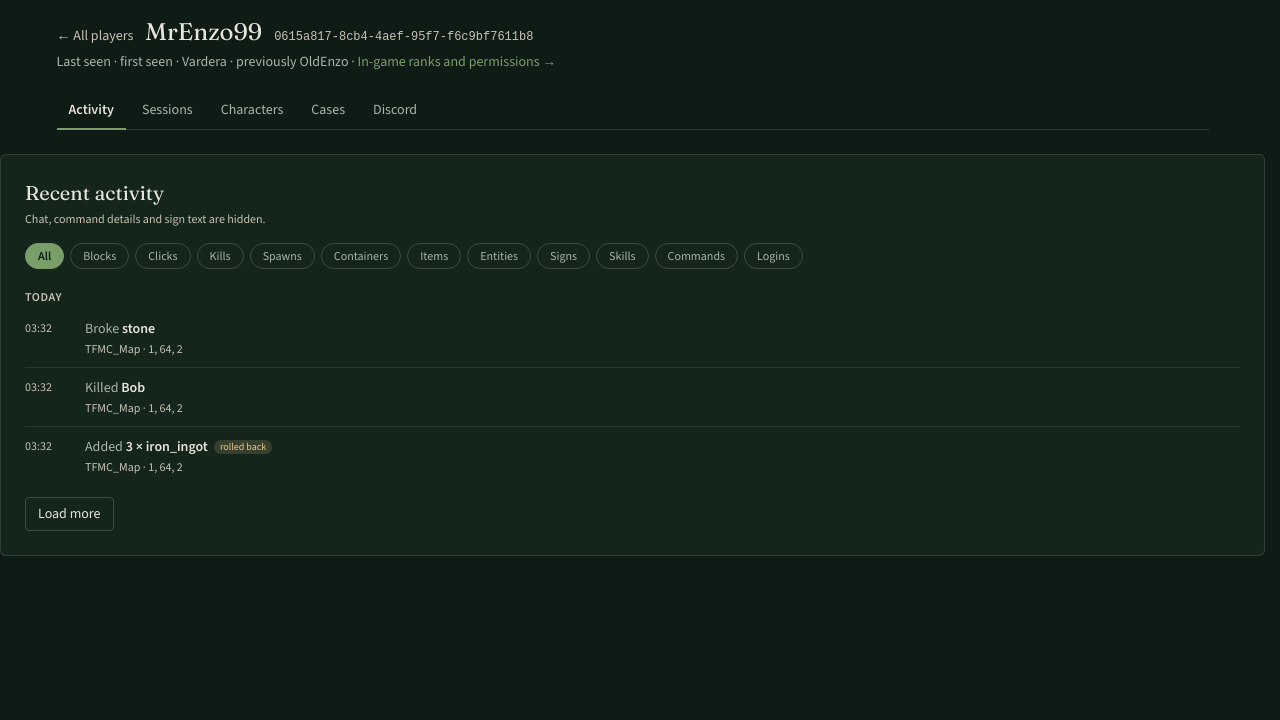
Test: filters by kind from the first page
Expected: the text "stone" is shown, [122,319,155,338]
Click the button "Kills": (220, 256) [197,243,244,269]
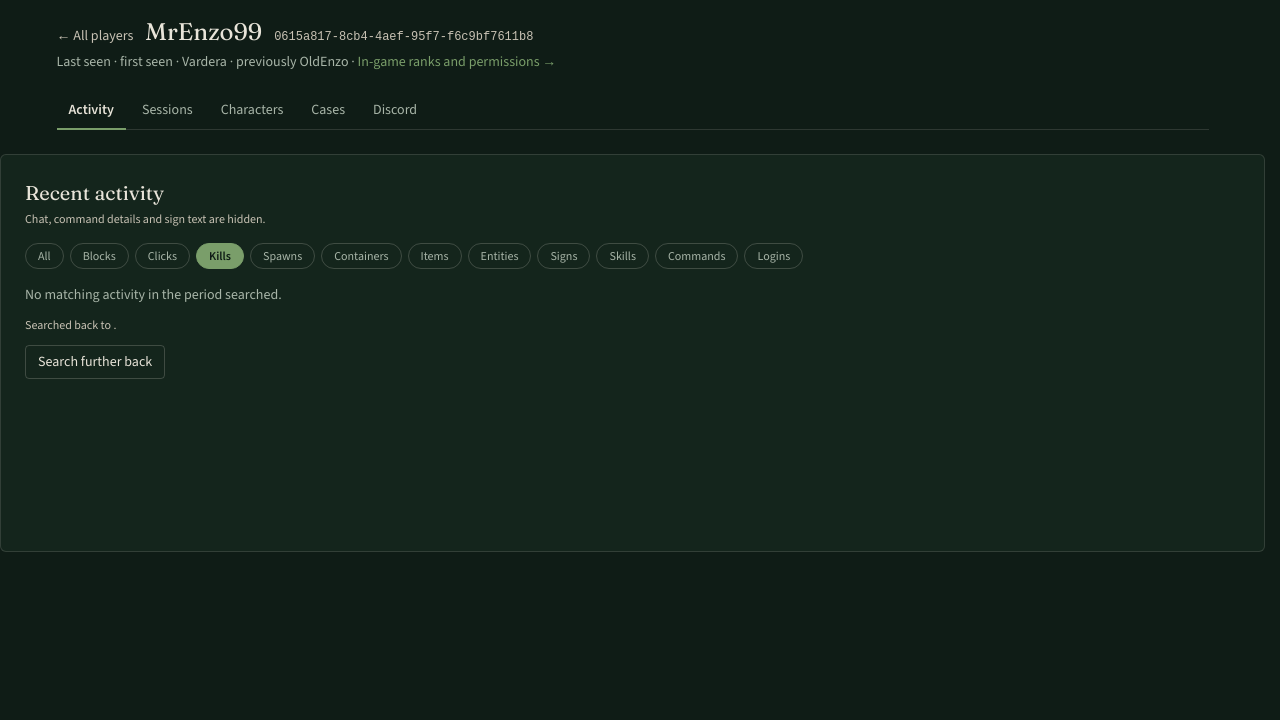
Result: the button "Search further back" is shown at [25,345,165,379]
Result: the text "Searched back to ." is shown at [25,317,116,333]
